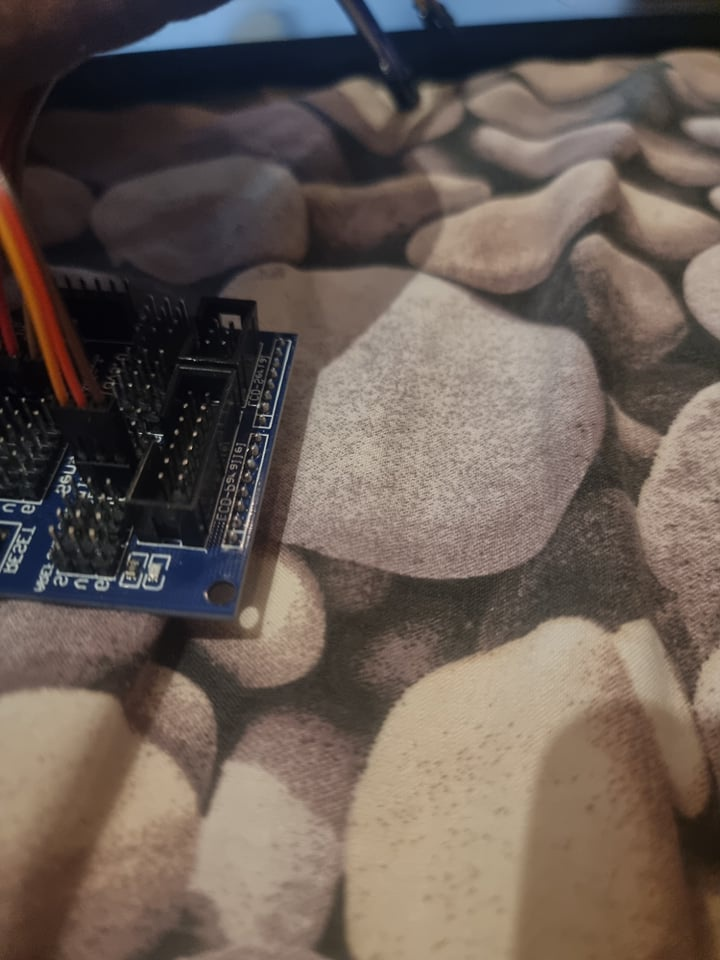5V EXPANSION: (0, 275, 295, 622)
